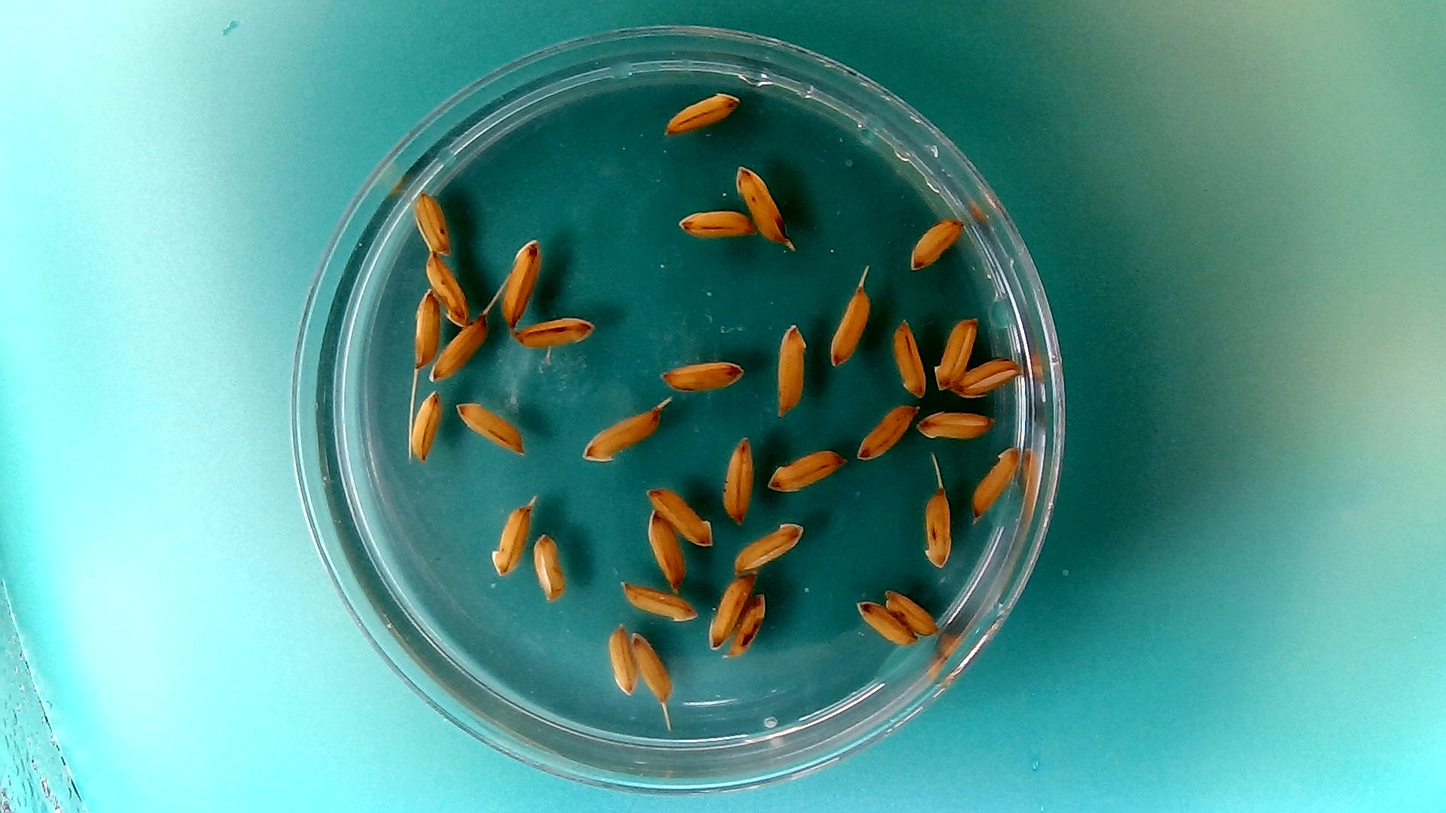no: (578, 401, 665, 462), (642, 484, 715, 556), (732, 161, 787, 247), (453, 397, 528, 457), (730, 516, 806, 574), (428, 312, 490, 383), (933, 306, 979, 399), (969, 442, 1022, 519), (825, 282, 873, 367), (499, 236, 543, 328), (764, 446, 847, 494), (661, 87, 742, 136), (705, 571, 755, 650), (853, 400, 917, 461), (645, 508, 688, 592), (423, 250, 471, 325), (618, 579, 699, 623), (628, 628, 674, 705), (906, 213, 966, 272), (774, 319, 809, 418), (657, 355, 747, 392), (721, 430, 755, 526), (510, 312, 597, 349), (853, 597, 916, 648), (724, 589, 768, 661), (919, 486, 955, 572), (410, 185, 453, 257), (891, 315, 927, 399), (490, 505, 532, 577), (405, 387, 444, 464), (954, 353, 1023, 396), (882, 586, 941, 636), (676, 205, 758, 239), (530, 530, 568, 603), (409, 286, 441, 371), (604, 620, 639, 696), (917, 407, 997, 440)
